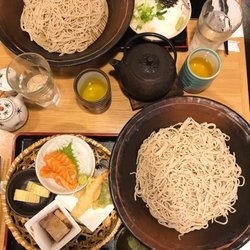Soba: (136, 119, 239, 233), (22, 1, 112, 52)
